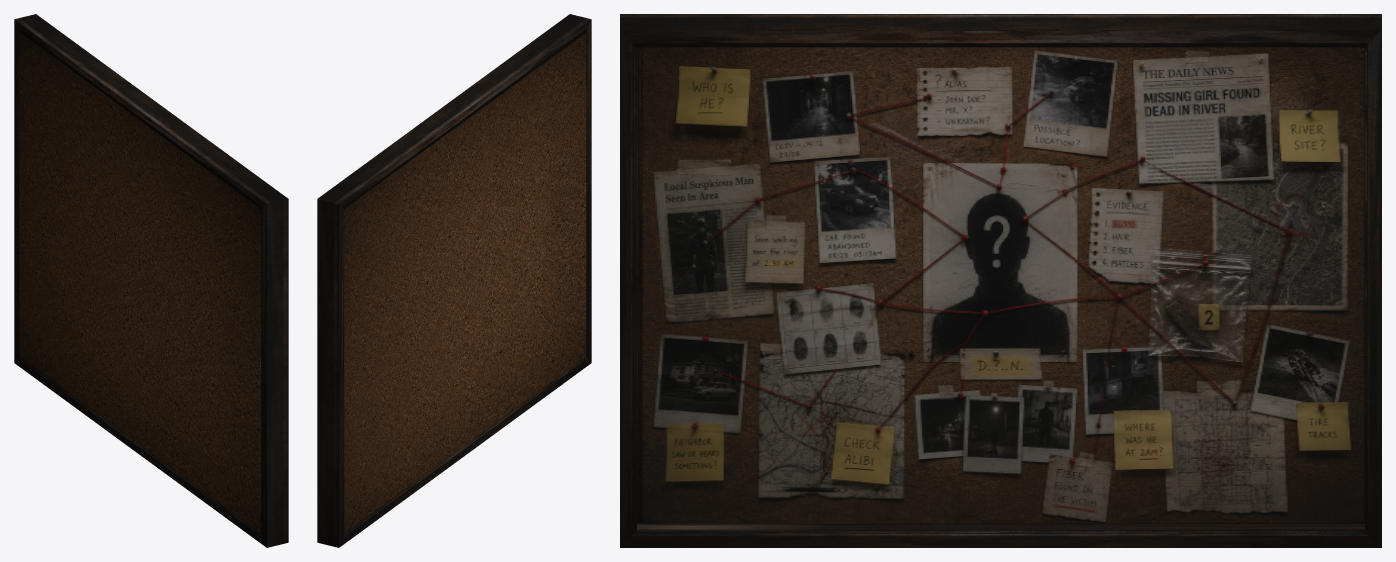
Rendered from mural.glb.
The picture shows the model from 3 angles, left to right: view 1: azimuth 30°, elevation 25°; view 2: azimuth 150°, elevation 25°; view 3: azimuth 270°, elevation 25°; orthographic projection. The views are drawn at different scales.
Parts seen in each view (by area): view 1: Board_Material.001_0; view 2: Board_Material.001_0; view 3: Board_Material.001_0.
Part boxes in pixels (x1=…): Board_Material.001_0: x1=14, y1=14, x2=288, y2=547; Board_Material.001_0: x1=317, y1=14, x2=591, y2=547; Board_Material.001_0: x1=620, y1=14, x2=1381, y2=547.
Size of the model in its own units: 0.1 by 1.5 by 2.
Materials: 1 (1 with a texture image).
